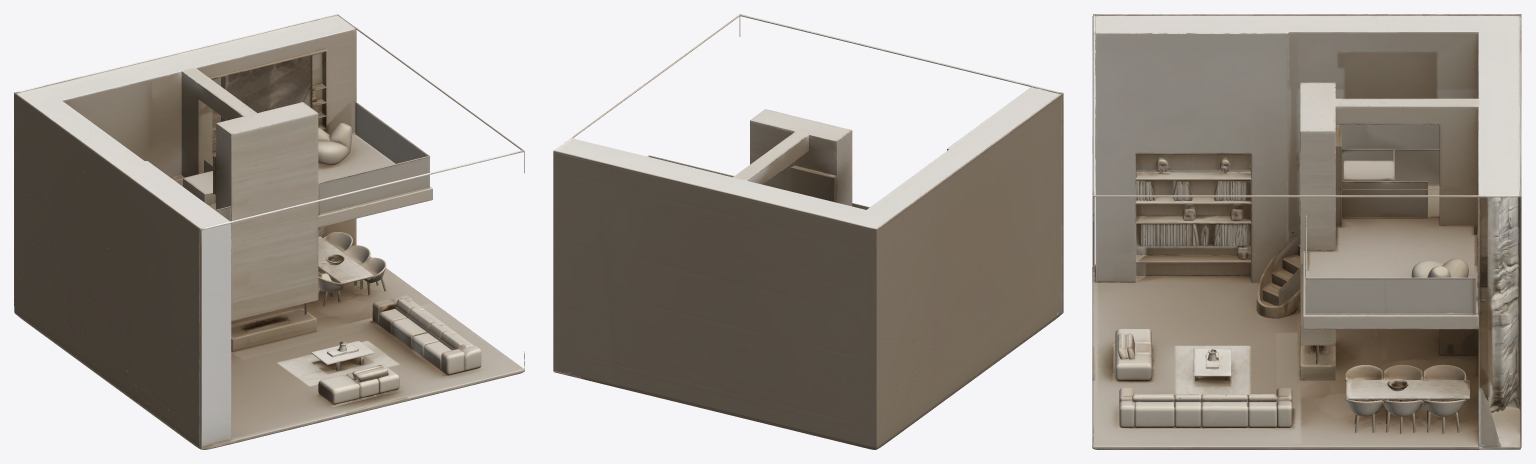
The model's file is hero-interior.glb.
3 renders of one model, left to right at view 1: azimuth 30°, elevation 25°; view 2: azimuth 150°, elevation 25°; view 3: azimuth 270°, elevation 25°, orthographic. The views are drawn at different scales.
Visible parts, largest first — view 1: Furniture_B11, Furniture_B12, Furniture_B01, Furniture_B04, Furniture_B14, Furniture_B09, Furniture_B02, Furniture_B05, Furniture_B06, Furniture_B13, Furniture_B08, Furniture_B10 (+2 smaller); view 2: Furniture_B01, Furniture_B12, Furniture_B02, Furniture_B09, Furniture_B08, Furniture_B10, Furniture_B06, Furniture_B14, Furniture_B11, Furniture_B07, Furniture_B05, Furniture_B03; view 3: Furniture_B12, Furniture_B08, Furniture_B13, Furniture_B05, Furniture_B11, Furniture_B02, Furniture_B07, Furniture_B06, Furniture_B09, Furniture_B14, Furniture_B10, Furniture_B03 (+2 smaller).
Part boxes in pixels (x1,y1,x2,y2): Furniture_B11: (99,106,432,448); Furniture_B12: (111,185,471,428); Furniture_B01: (14,68,145,336); Furniture_B04: (29,28,521,428); Furniture_B14: (169,150,524,449); Furniture_B09: (70,97,453,418); Furniture_B02: (14,14,524,363); Furniture_B05: (32,32,419,308); Furniture_B06: (34,104,409,448); Furniture_B13: (132,193,523,425); Furniture_B08: (57,93,369,353); Furniture_B10: (87,103,429,374); Furniture_B01: (553,150,982,449); Furniture_B12: (947,93,1063,375); Furniture_B02: (553,14,1004,449); Furniture_B09: (774,125,1058,404); Furniture_B08: (750,87,1049,415); Furniture_B10: (647,117,964,395); Furniture_B06: (895,136,1063,423); Furniture_B14: (739,15,1063,333); Furniture_B11: (649,110,976,384); Furniture_B07: (907,181,938,399); Furniture_B05: (747,149,901,400); Furniture_B03: (702,179,893,415); Furniture_B12: (1095,14,1300,446); Furniture_B08: (1095,16,1422,433); Furniture_B13: (1092,14,1250,449); Furniture_B05: (1319,31,1478,446); Furniture_B11: (1092,82,1325,449); Furniture_B02: (1093,14,1520,449); Furniture_B07: (1278,14,1451,449); Furniture_B06: (1150,14,1474,449); Furniture_B09: (1142,14,1393,446); Furniture_B14: (1092,14,1167,447); Furniture_B10: (1288,82,1352,412); Furniture_B03: (1441,14,1513,448).
Bounding box in the file's own units: 7.52 × 4.93 × 7.51.
Materials: 1 (1 with a texture image).
